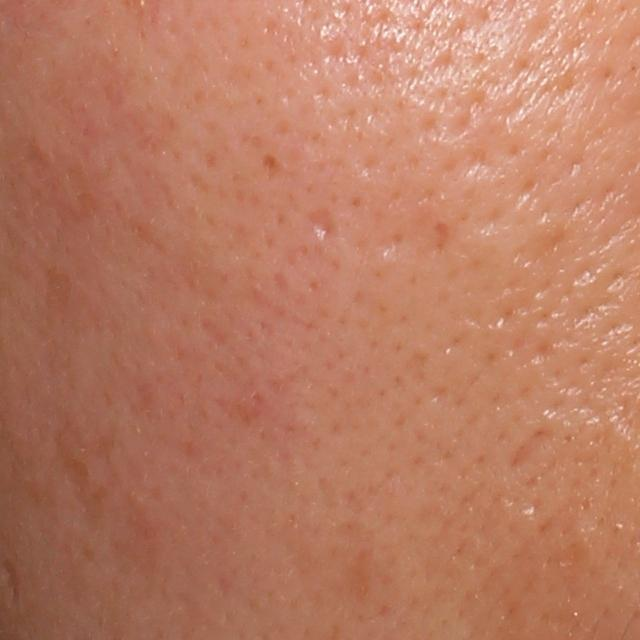atrophic_scar: (509, 422, 560, 472), (299, 206, 336, 250)
